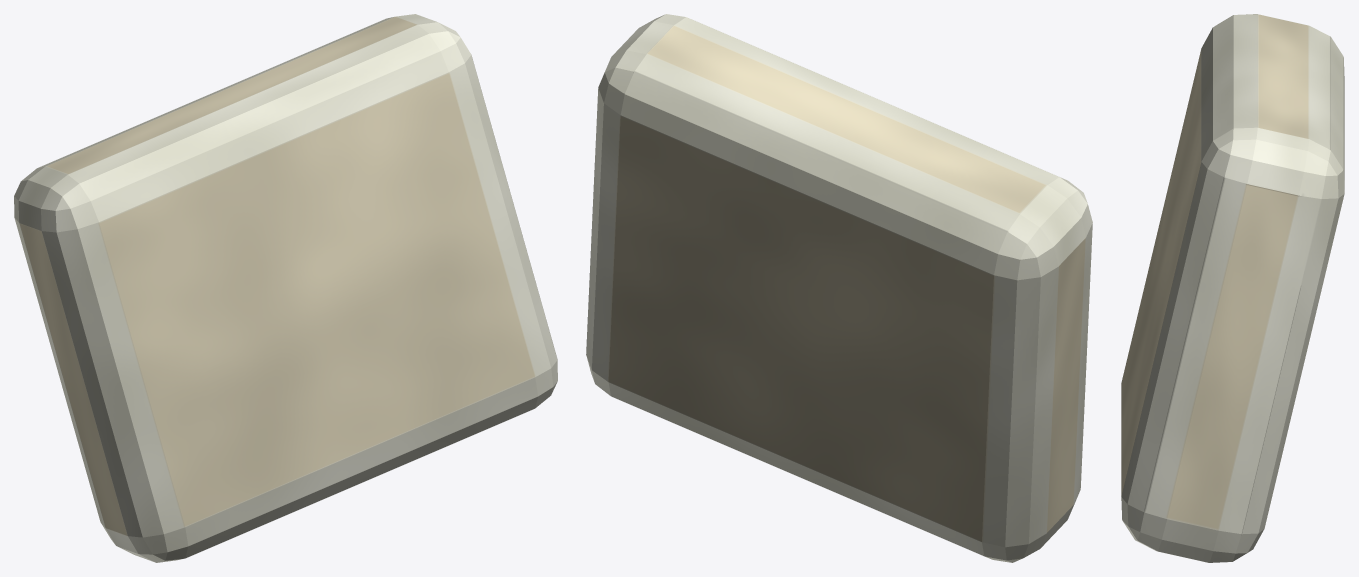
The model's file is 10_Back_Cushion_2.fbx.
The picture shows the model from 3 angles, left to right: view 1: azimuth 30°, elevation 25°; view 2: azimuth 150°, elevation 25°; view 3: azimuth 270°, elevation 25°; orthographic projection. The views are drawn at different scales.
Parts seen in each view (by area): view 1: 10_Back_Cushion_2; view 2: 10_Back_Cushion_2; view 3: 10_Back_Cushion_2.
Boxes of the visible parts, left/top/right/bottom form: 10_Back_Cushion_2: left=14, top=14, right=557, bottom=562; 10_Back_Cushion_2: left=586, top=14, right=1092, bottom=562; 10_Back_Cushion_2: left=1121, top=14, right=1344, bottom=562.
Size of the model in its own units: 63.9 by 56.59 by 24.31.
Materials: 1 (1 with a texture image).
